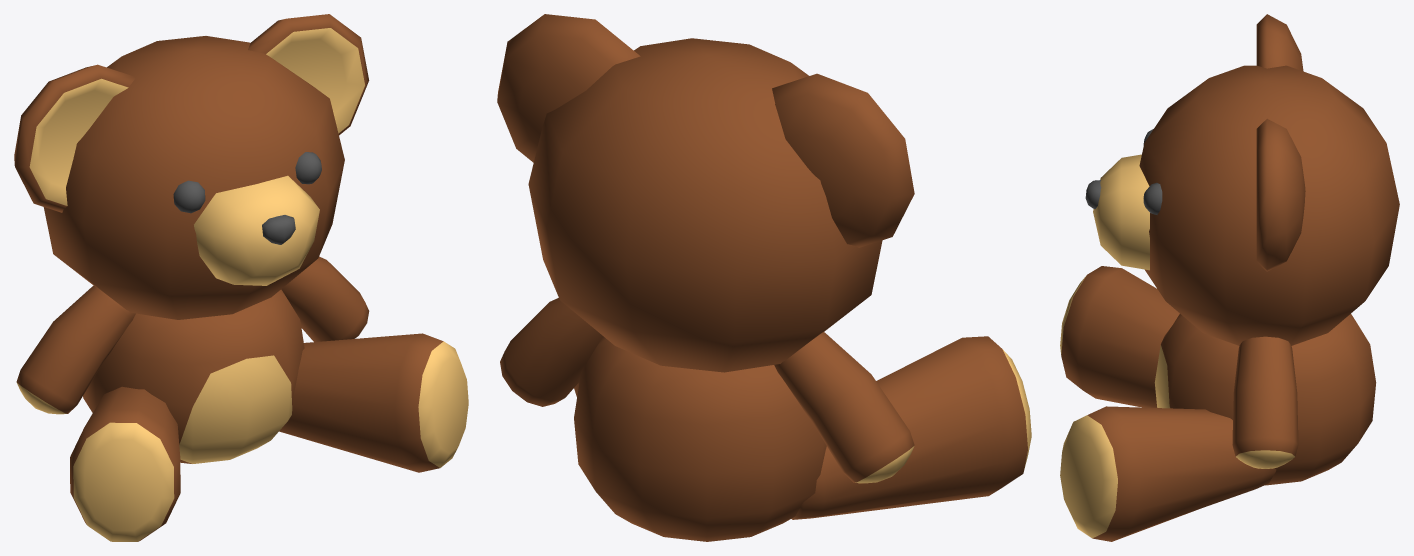
3 views of the same model, side by side, from view 1: azimuth 30°, elevation 25°; view 2: azimuth 150°, elevation 25°; view 3: azimuth 270°, elevation 25° (orthographic). The views are drawn at different scales.
Visible parts, largest first — view 1: 5; view 2: 5; view 3: 5.
Part boxes in pixels (x1,y1,x2,y2): 5: [14, 14, 468, 541]; 5: [497, 14, 1031, 541]; 5: [1060, 14, 1399, 541].
Size of the model in its own units: 299 by 293 by 230.
